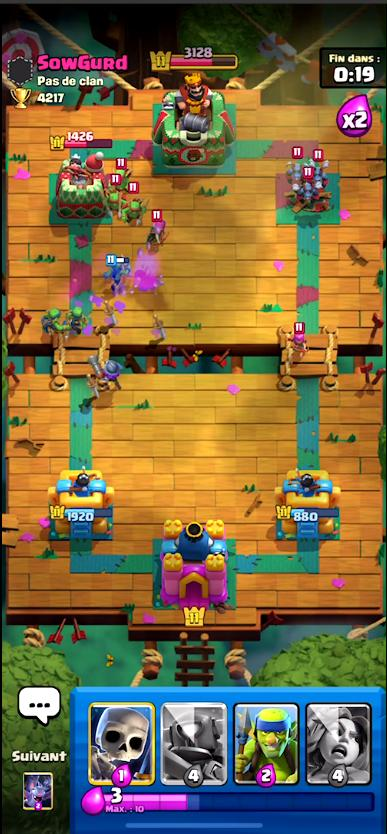archere: (152, 214, 167, 241), (293, 323, 305, 353)
gargouille: (299, 168, 318, 204), (311, 150, 330, 183), (286, 146, 304, 180)
gobelin: (109, 255, 129, 282)
gobelin_lances: (41, 305, 65, 333), (124, 185, 143, 219), (107, 175, 125, 207), (113, 156, 131, 185), (65, 307, 86, 331)
mousquetaire: (88, 354, 119, 395)
